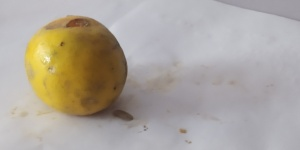BAD: (24, 15, 127, 114)
